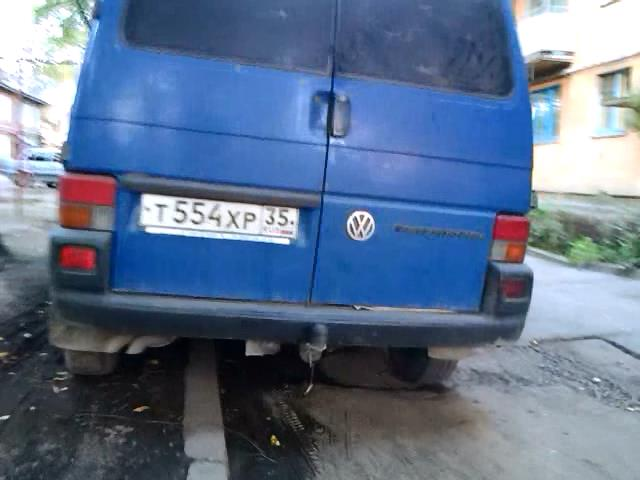car license plate: (139, 191, 301, 247)
